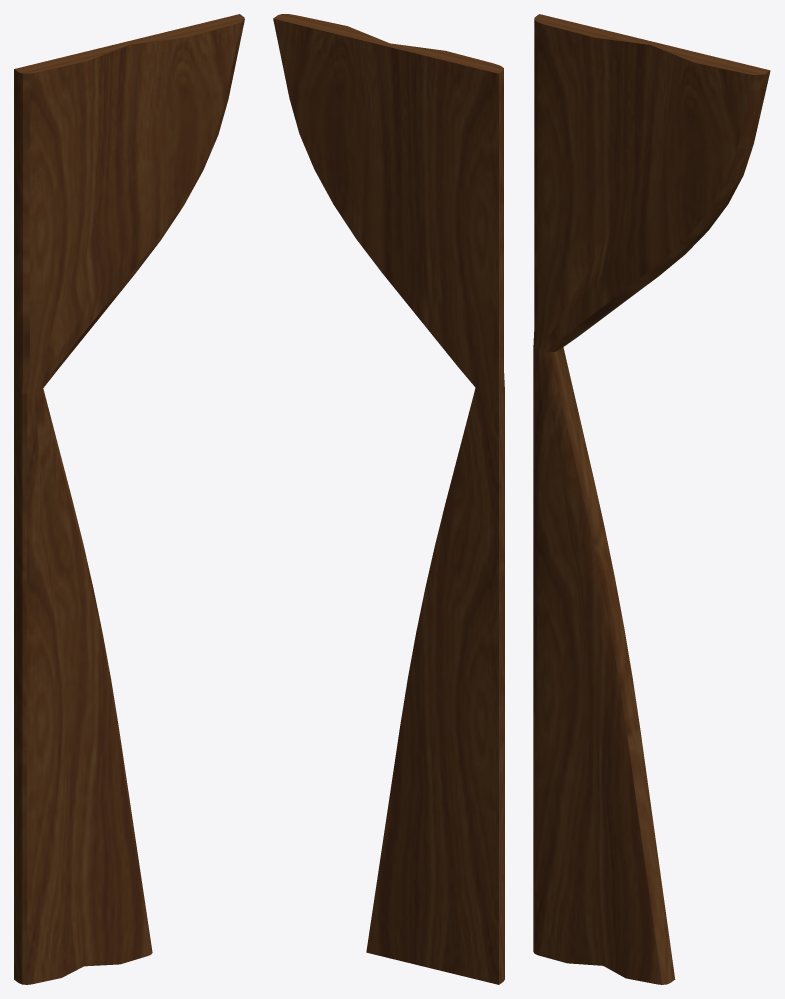
The model's file is Misc_Curtain.fbx.
3 views of the same model, side by side, from view 1: azimuth 30°, elevation 25°; view 2: azimuth 150°, elevation 25°; view 3: azimuth 330°, elevation 25° (orthographic). The views are drawn at different scales.
Visible parts, largest first — view 1: polySurface128; view 2: polySurface128; view 3: polySurface128.
Boxes of the visible parts, x1,y1,x2,y2 form: polySurface128: (14, 14, 244, 984); polySurface128: (273, 14, 504, 984); polySurface128: (533, 14, 770, 984).
Size of the model in its own units: 1.15 by 4.43 by 0.0966.
